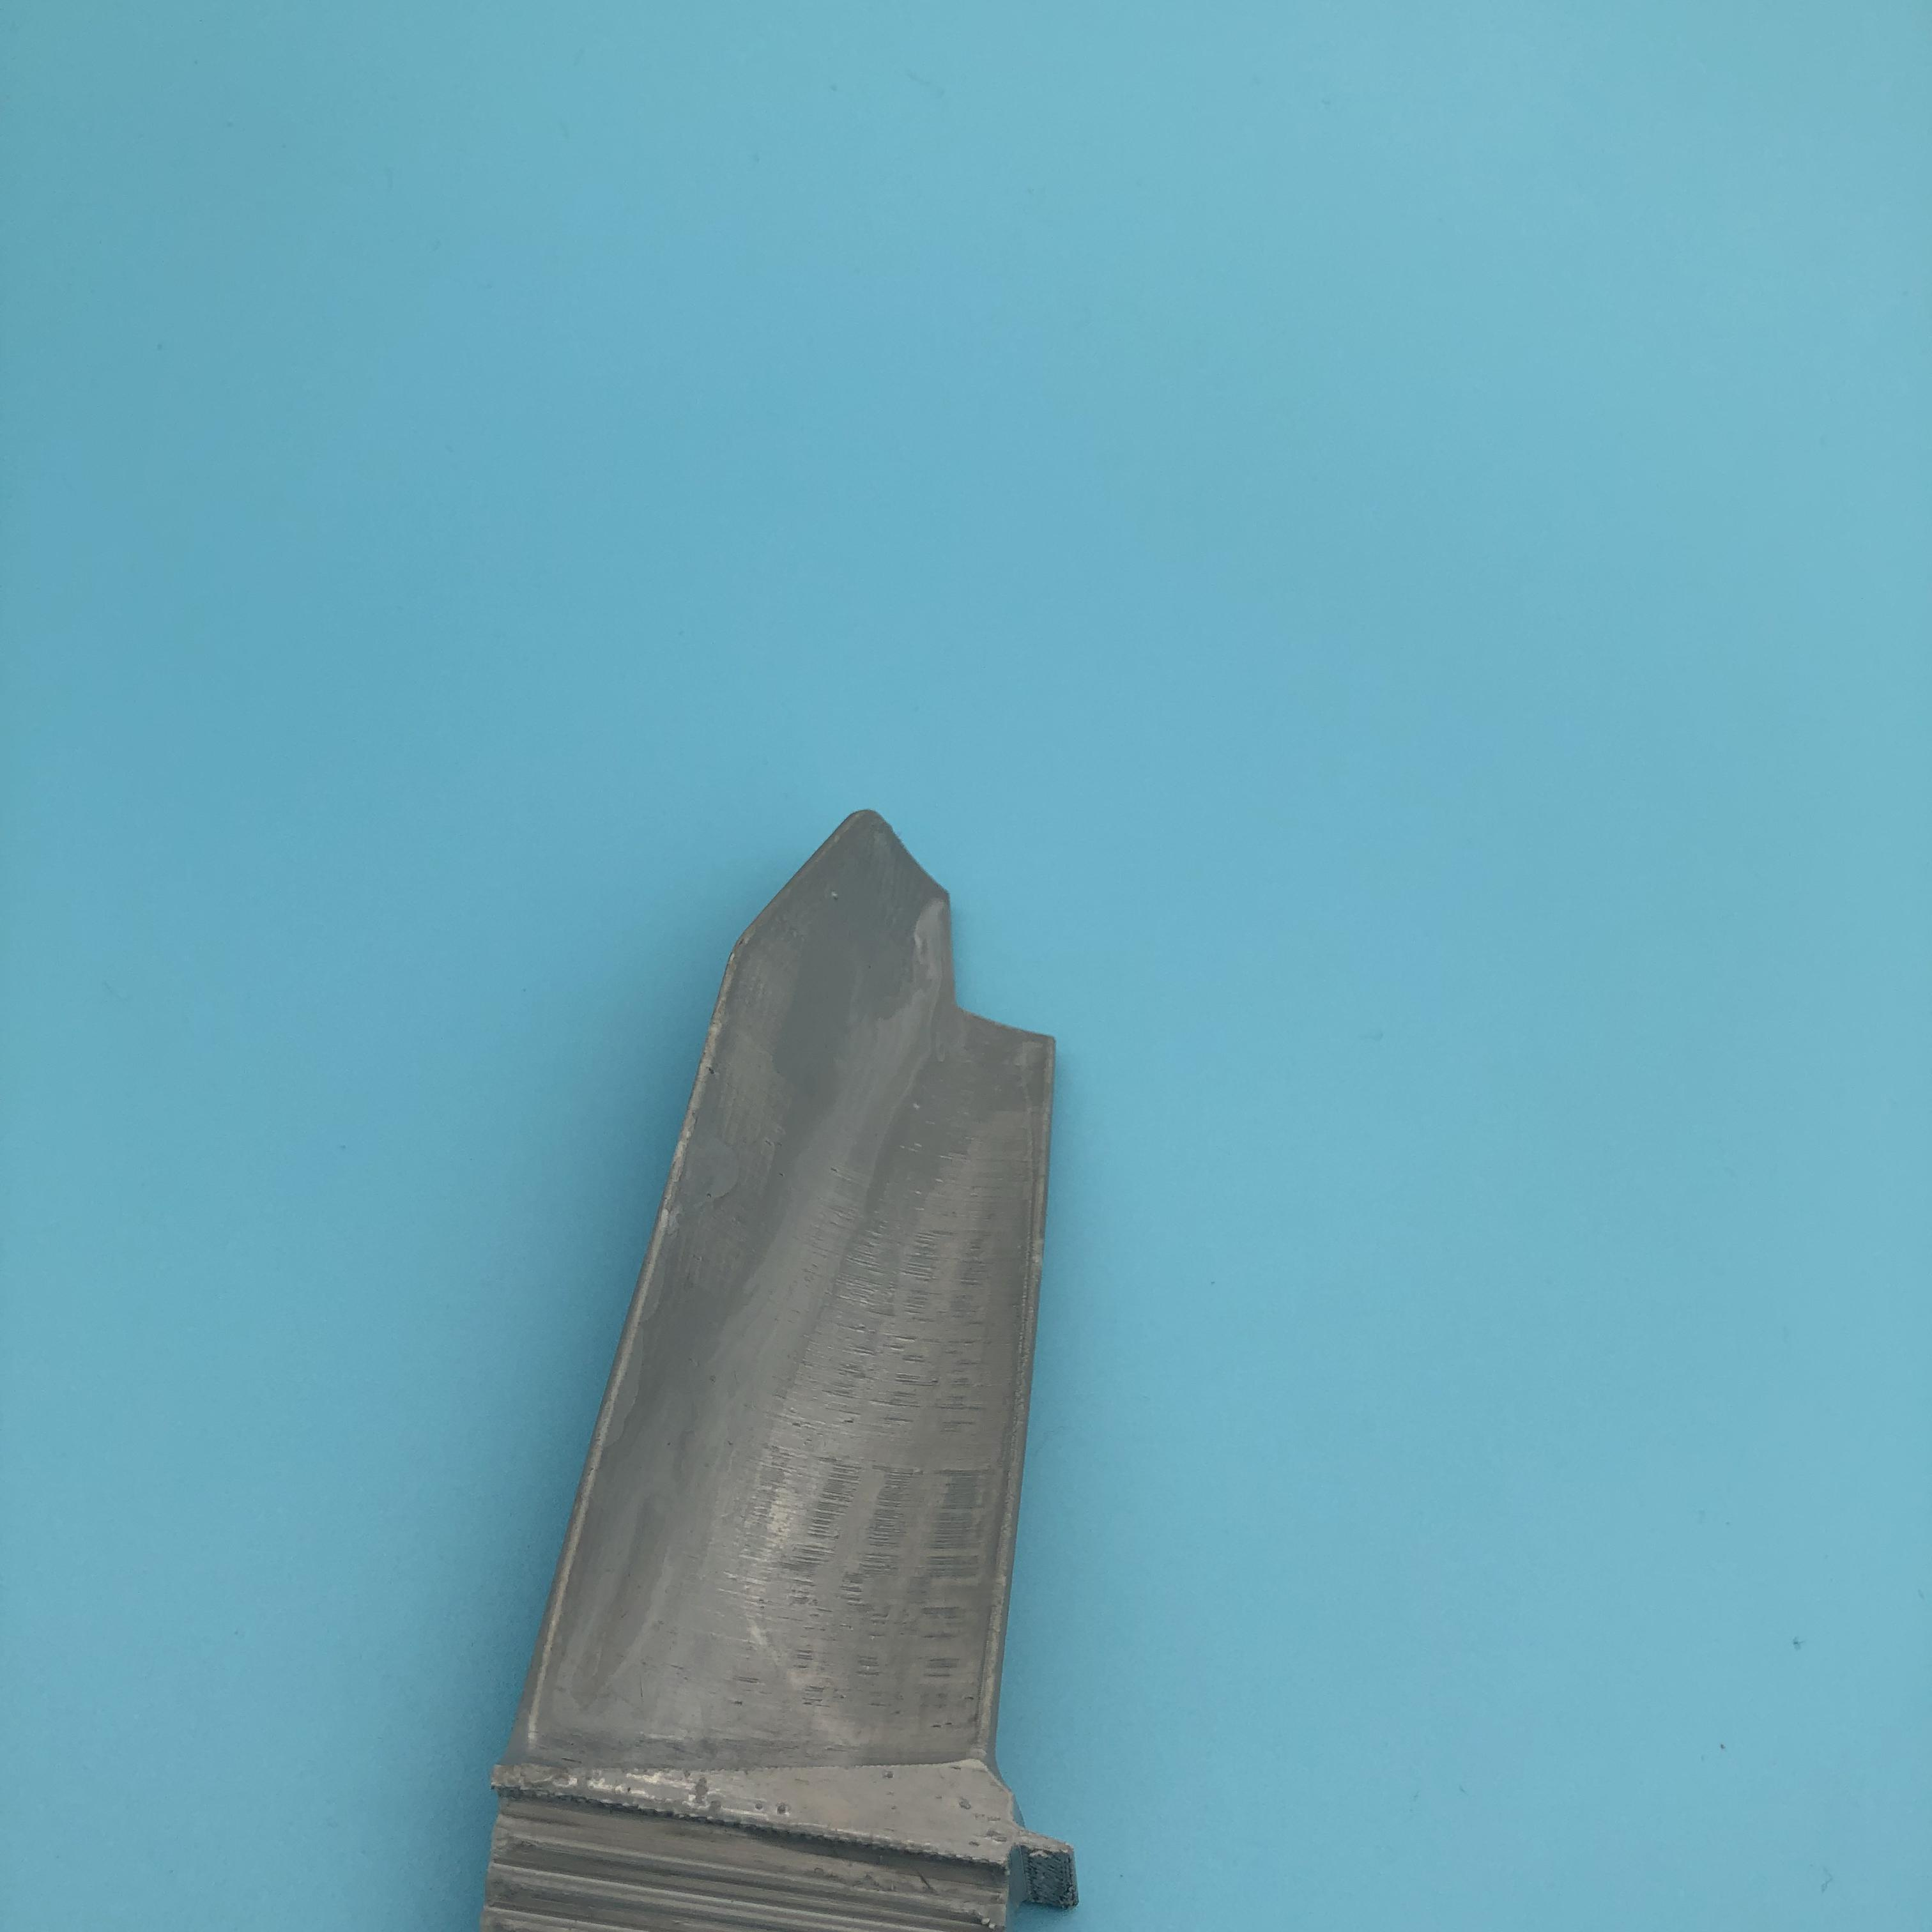fracture: (855, 816, 1097, 1058)
